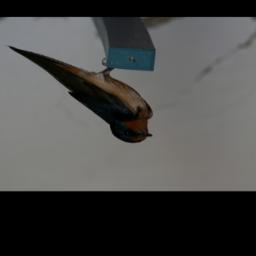Swallow: (5, 43, 157, 145)
